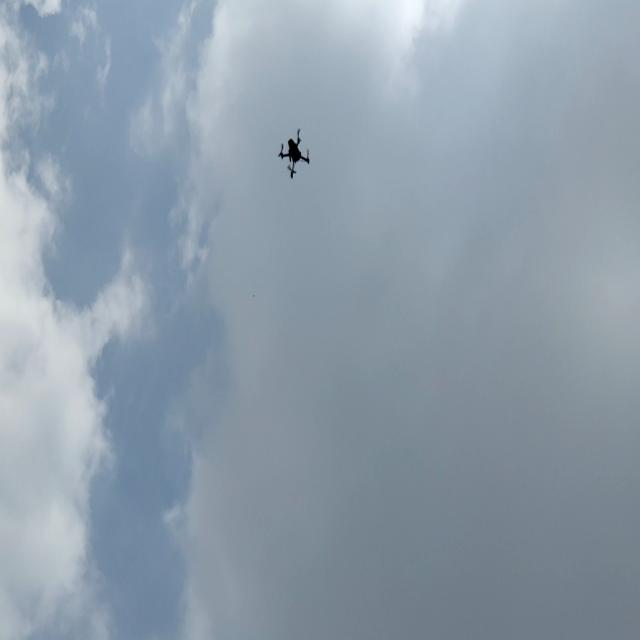drone: (268, 115, 322, 187)
